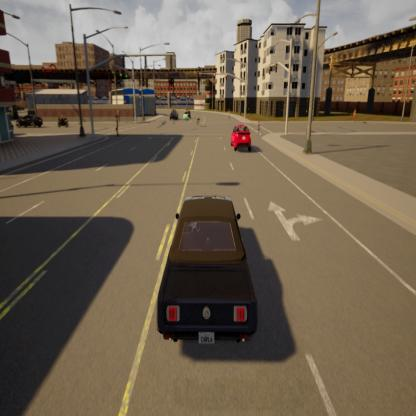Cars: (155, 192, 258, 348), (230, 121, 252, 152), (16, 113, 42, 131), (57, 107, 68, 131)
Pedestrian: (113, 112, 120, 136), (256, 119, 262, 139)
